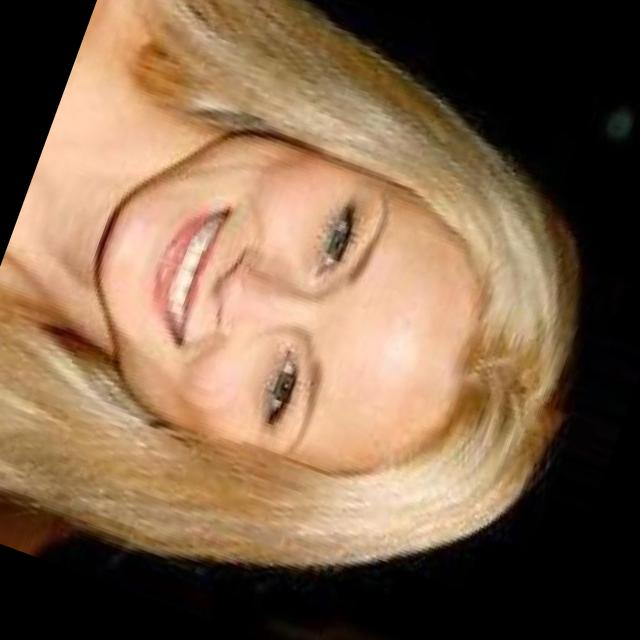bareface: (39, 119, 526, 564)
